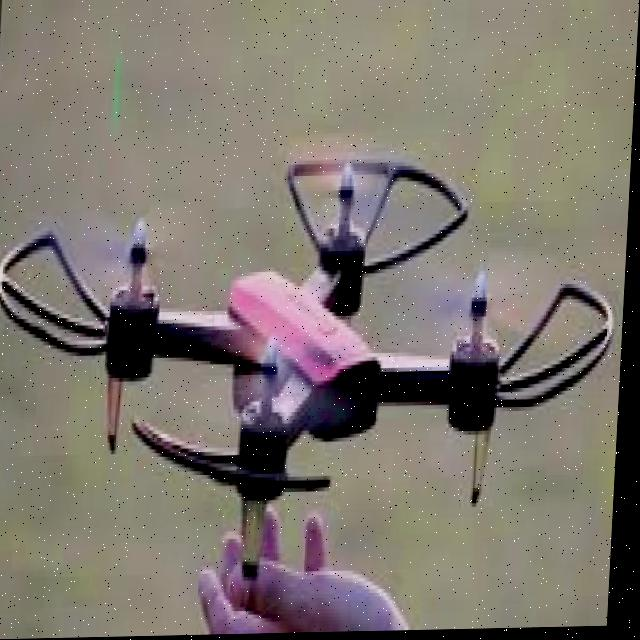drone: (0, 125, 634, 590)
